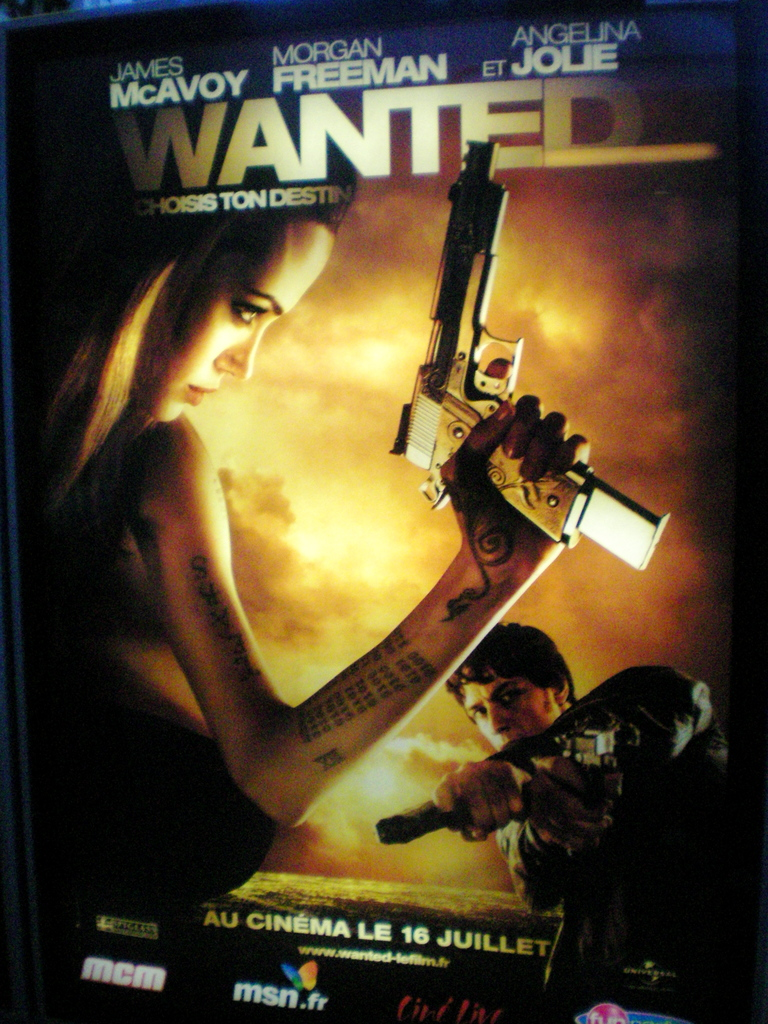Person: (16, 137, 588, 894), (432, 622, 726, 914)
